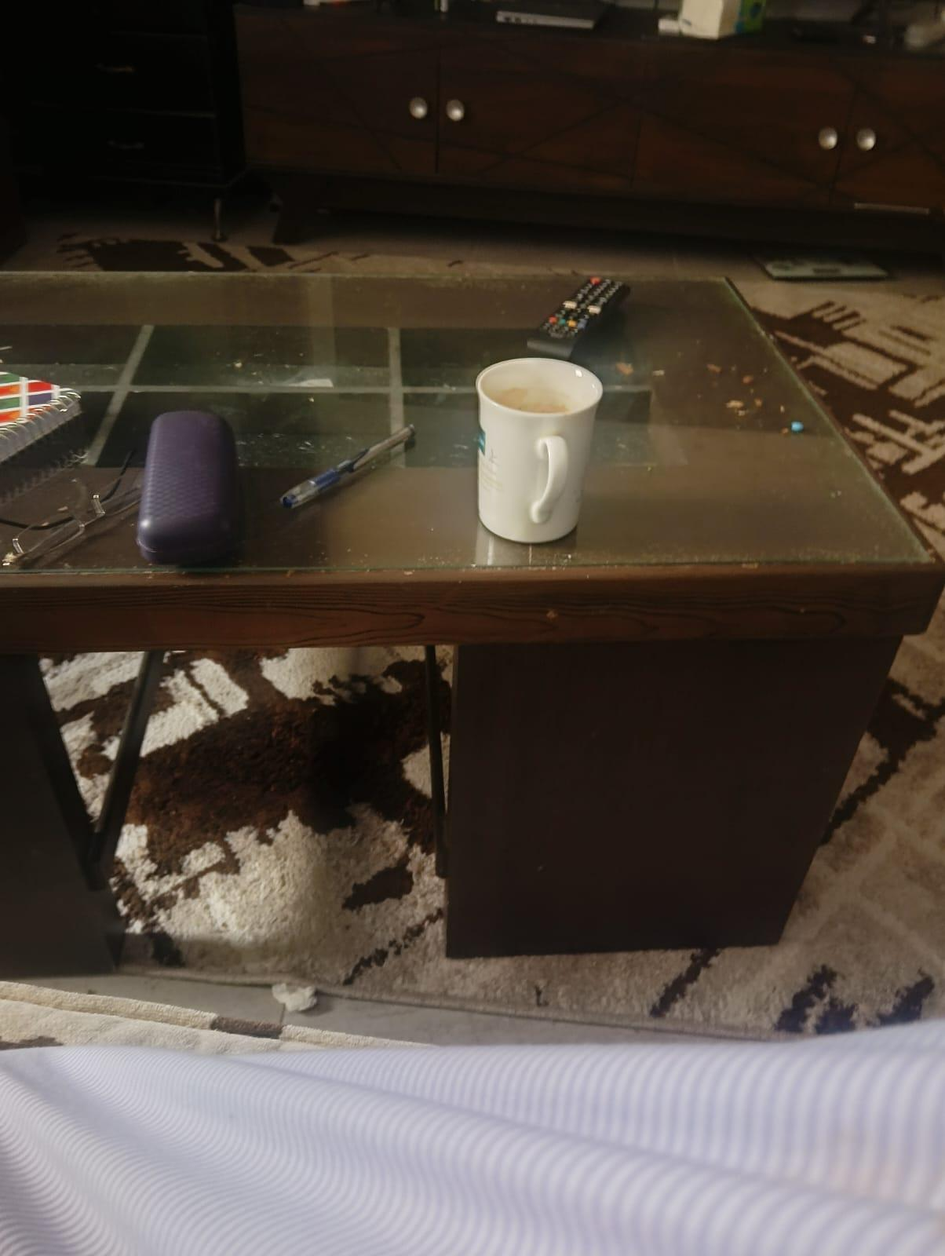cup: (476, 357, 602, 542)
